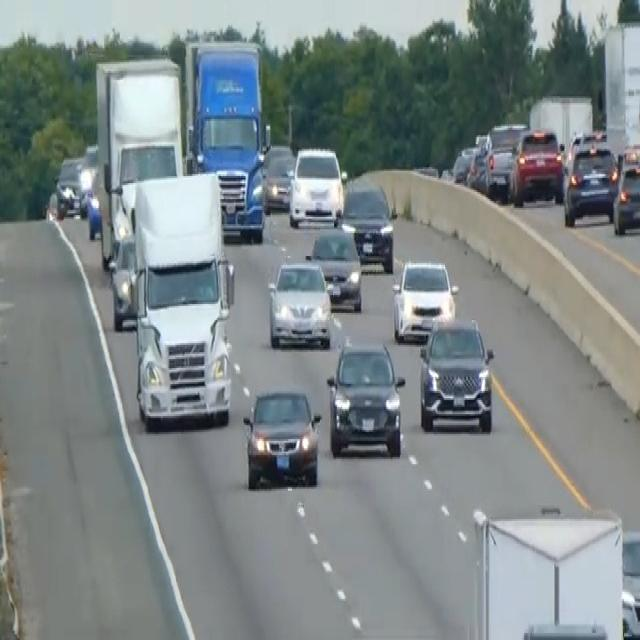car: (325, 336, 405, 459), (417, 313, 495, 434), (241, 387, 322, 489), (267, 258, 332, 348), (391, 256, 458, 343), (341, 176, 395, 272), (305, 224, 363, 311), (562, 138, 619, 225), (288, 144, 344, 228), (510, 126, 564, 206), (484, 121, 525, 197), (108, 233, 138, 331), (262, 146, 295, 212), (612, 154, 639, 234), (54, 153, 86, 217), (85, 169, 102, 240), (451, 144, 475, 183)
lorry: (129, 169, 236, 430), (182, 37, 270, 242)
